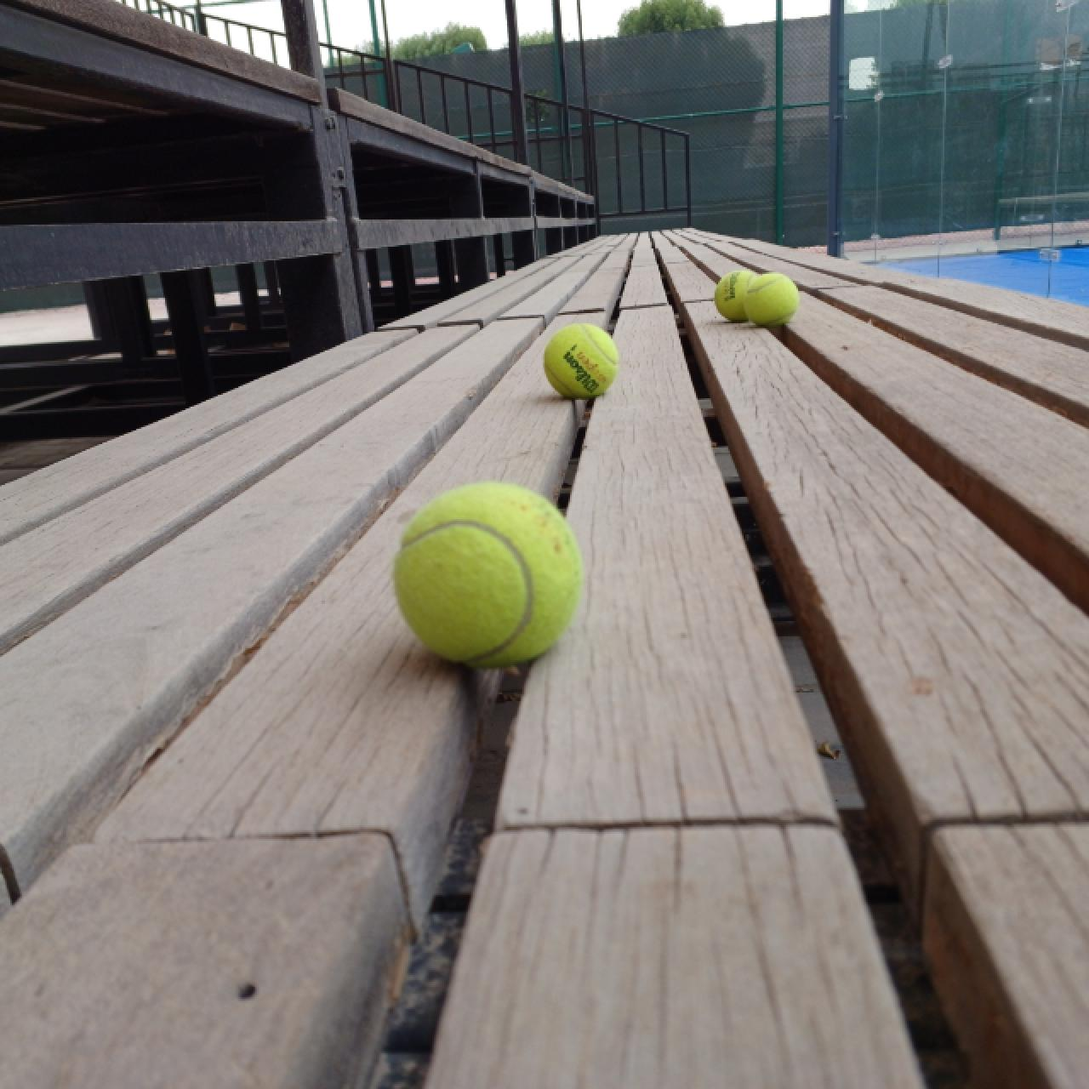tennis-ball: (393, 479, 582, 668), (542, 322, 619, 399), (741, 271, 798, 328), (713, 269, 766, 323)
